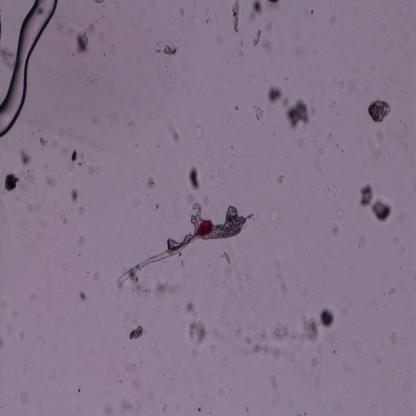Air bubble: (0, 0, 58, 137)
Background material: (236, 318, 290, 359), (293, 307, 335, 344), (265, 244, 291, 302), (360, 181, 392, 228), (153, 49, 184, 94), (286, 95, 312, 129), (367, 97, 392, 123), (153, 279, 187, 296), (251, 0, 280, 18), (154, 35, 178, 56), (188, 323, 207, 348), (121, 397, 143, 416), (124, 358, 143, 380), (186, 167, 202, 193), (75, 29, 90, 56), (340, 292, 356, 317), (2, 172, 20, 194), (54, 18, 76, 36), (230, 0, 241, 34), (197, 218, 214, 238), (268, 82, 284, 103), (166, 123, 181, 145), (265, 200, 280, 222), (128, 322, 146, 340), (162, 362, 179, 381), (382, 283, 396, 306), (191, 123, 209, 140), (19, 170, 36, 188), (84, 69, 100, 87), (324, 183, 339, 202), (355, 230, 370, 249), (131, 282, 150, 296), (33, 331, 46, 351), (18, 148, 32, 166), (269, 369, 280, 391), (252, 103, 265, 121), (388, 327, 399, 348), (84, 152, 96, 171), (43, 367, 58, 382), (331, 72, 344, 89), (27, 192, 39, 210), (125, 116, 137, 134), (379, 150, 394, 164), (253, 28, 263, 48), (203, 5, 211, 30), (302, 3, 316, 17), (240, 40, 248, 64), (347, 76, 358, 93), (310, 356, 322, 371), (400, 376, 412, 391), (89, 267, 100, 283), (40, 135, 53, 148), (199, 195, 213, 207), (262, 38, 274, 52), (184, 302, 196, 316), (86, 22, 97, 37), (17, 390, 28, 405), (276, 169, 286, 185), (78, 288, 88, 304), (223, 116, 236, 128), (70, 188, 79, 205), (114, 369, 124, 384), (75, 235, 87, 247), (188, 348, 200, 360), (218, 79, 230, 91), (61, 160, 73, 172), (146, 176, 156, 190), (44, 178, 58, 188), (101, 406, 115, 416), (205, 145, 216, 157), (208, 345, 219, 357), (375, 127, 383, 143), (60, 210, 68, 226), (187, 388, 196, 402), (94, 204, 103, 218), (218, 386, 228, 398), (93, 249, 101, 263), (265, 19, 275, 30), (70, 150, 78, 163), (180, 6, 186, 23), (336, 142, 346, 152), (219, 354, 229, 364), (7, 308, 18, 317), (218, 168, 227, 179), (30, 291, 38, 303), (217, 30, 223, 46), (90, 113, 98, 125), (315, 159, 322, 172), (329, 13, 336, 26), (110, 40, 117, 53), (98, 31, 105, 43), (298, 138, 306, 148), (78, 205, 86, 215), (42, 162, 48, 175), (6, 323, 12, 336), (328, 100, 336, 109), (94, 0, 106, 6), (134, 183, 142, 192), (147, 391, 154, 401), (61, 260, 68, 270), (113, 260, 121, 268), (176, 193, 183, 202), (134, 309, 138, 324), (100, 14, 106, 24), (134, 198, 140, 208), (188, 194, 195, 202), (243, 406, 249, 415), (228, 143, 235, 150), (25, 354, 31, 362), (21, 331, 25, 342), (318, 147, 324, 154), (173, 210, 180, 216), (249, 13, 255, 20), (53, 260, 58, 268), (163, 404, 168, 412), (0, 336, 3, 349), (284, 75, 289, 82), (77, 252, 82, 258), (234, 107, 240, 112), (101, 3, 106, 9), (197, 408, 202, 413), (76, 387, 80, 393), (232, 154, 235, 158)
Cellulose filter fibre: (116, 210, 253, 289)
